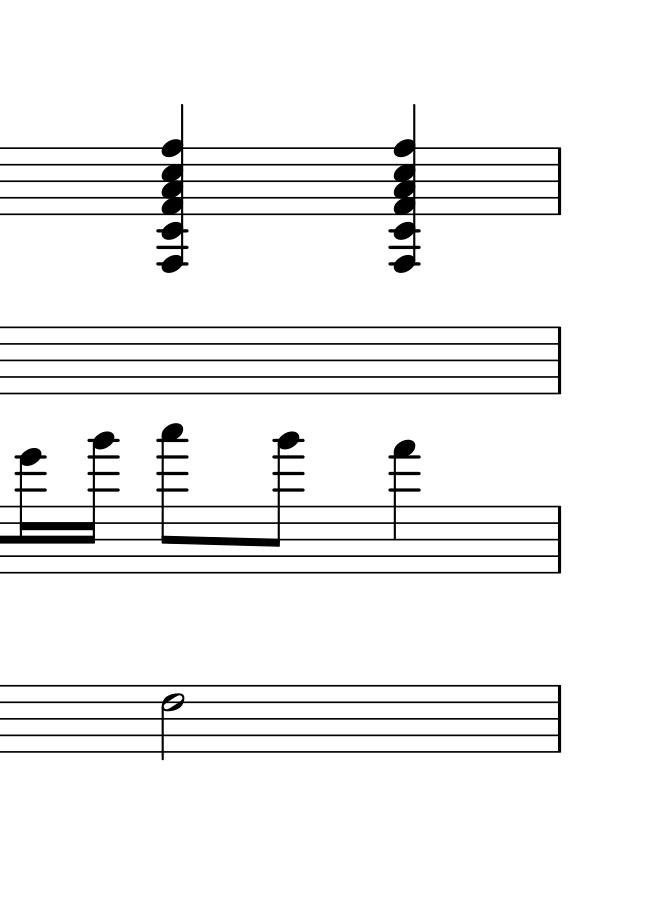2_6: (159, 682, 187, 761)
4_15: (390, 438, 419, 574)
8_14: (17, 446, 44, 577)
8_16: (261, 430, 303, 574), (77, 431, 117, 576)
8_17: (159, 423, 189, 577)
Single_barline: (552, 324, 570, 395), (551, 148, 567, 213), (551, 686, 567, 749), (551, 507, 566, 570)
